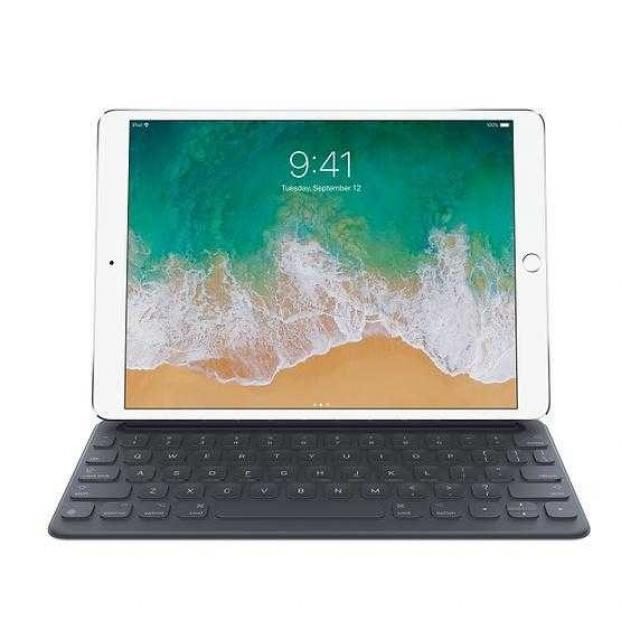keyboard: (51, 422, 588, 531)
